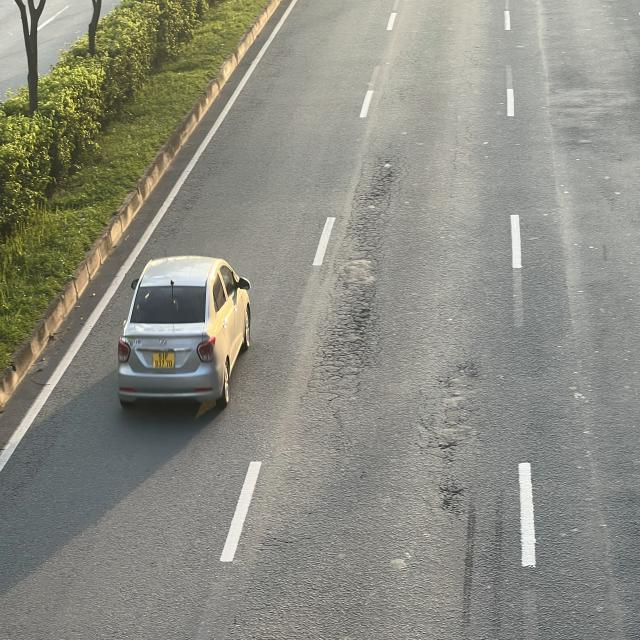car: (121, 250, 258, 409)
